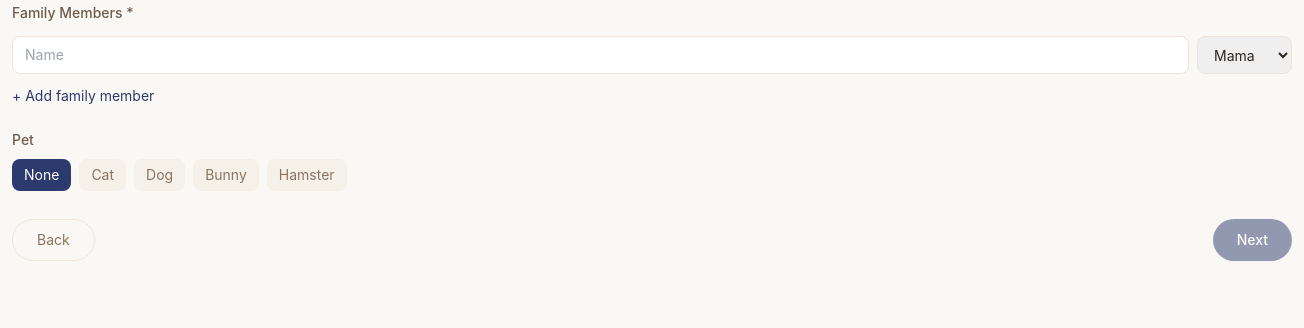
Test case: FamilyStep › adds a family member
The width and height of the screenshot is (1304, 328).
What coordinates should you click on to do the following:
click the button with test id "add-member"
I would click on:
 (83, 96)
Its box is [12,86,154,106].
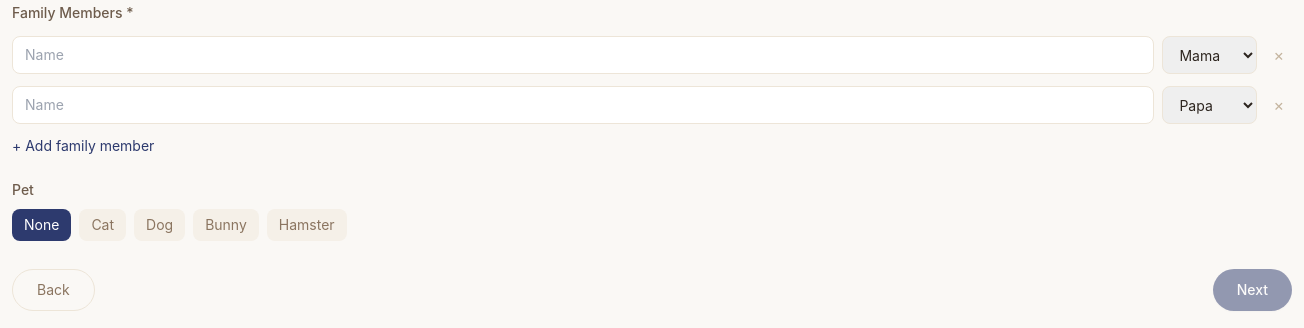
Result: the element with test id "family-member-1" is shown at [12,86,1292,124]
